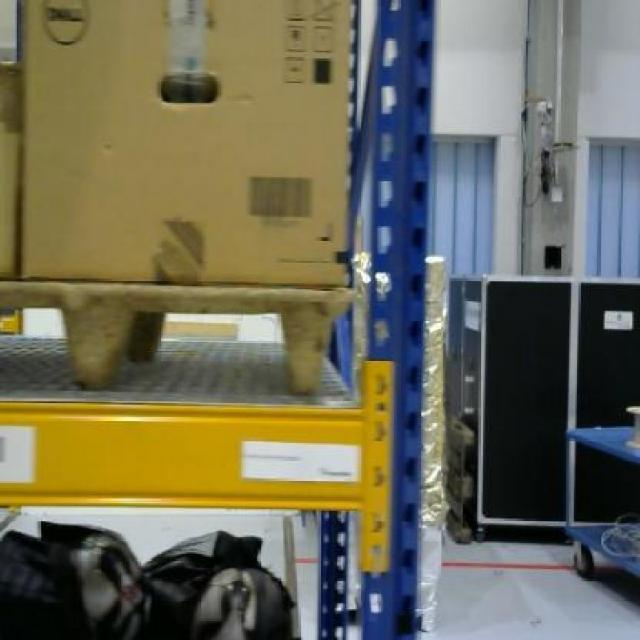box: (18, 0, 351, 289)
